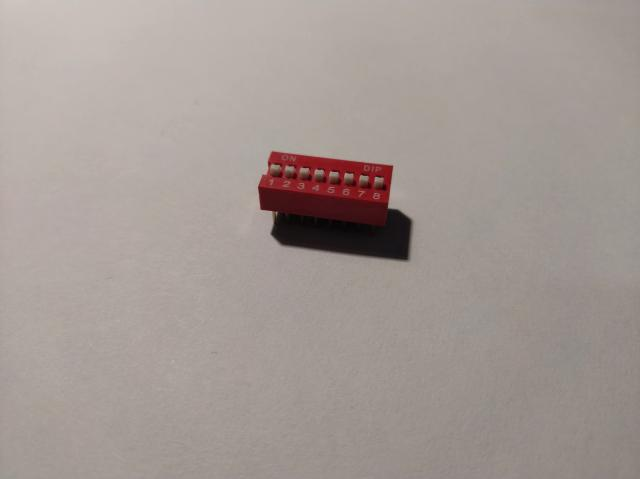dip_switch: (258, 151, 394, 237)
